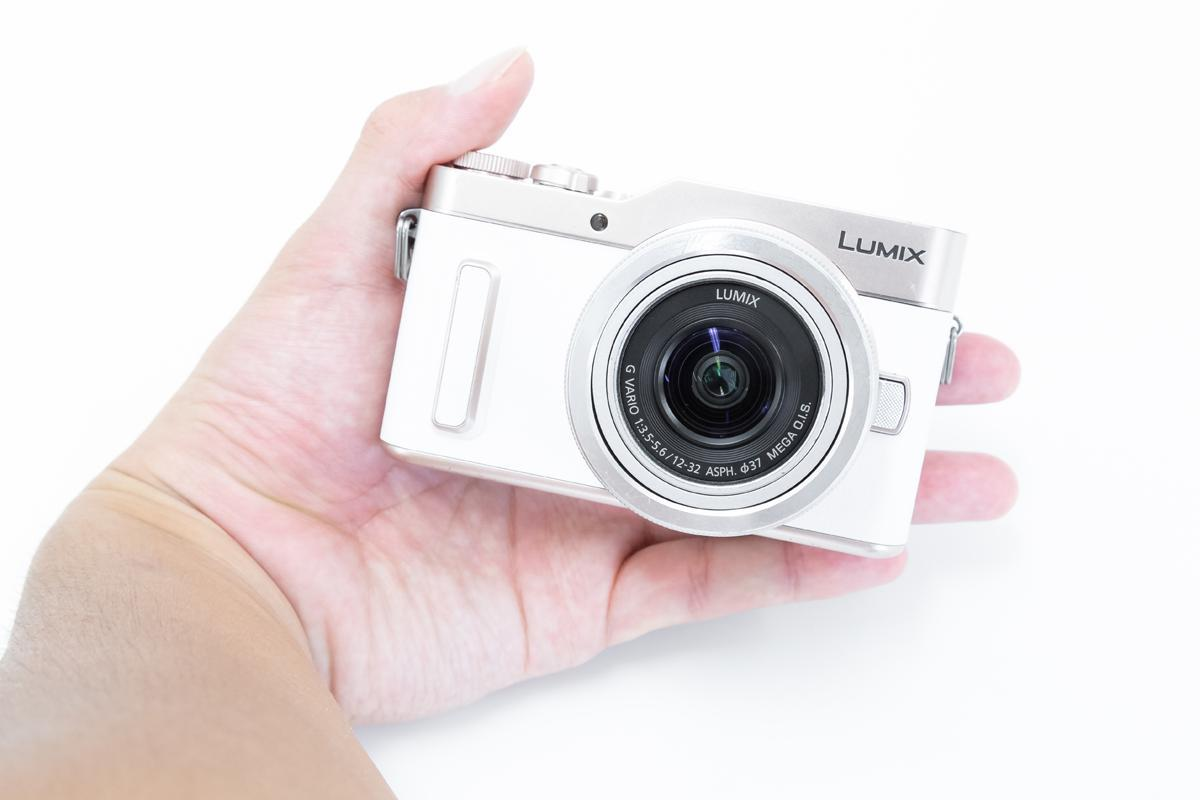degital-camera: (376, 137, 973, 574)
